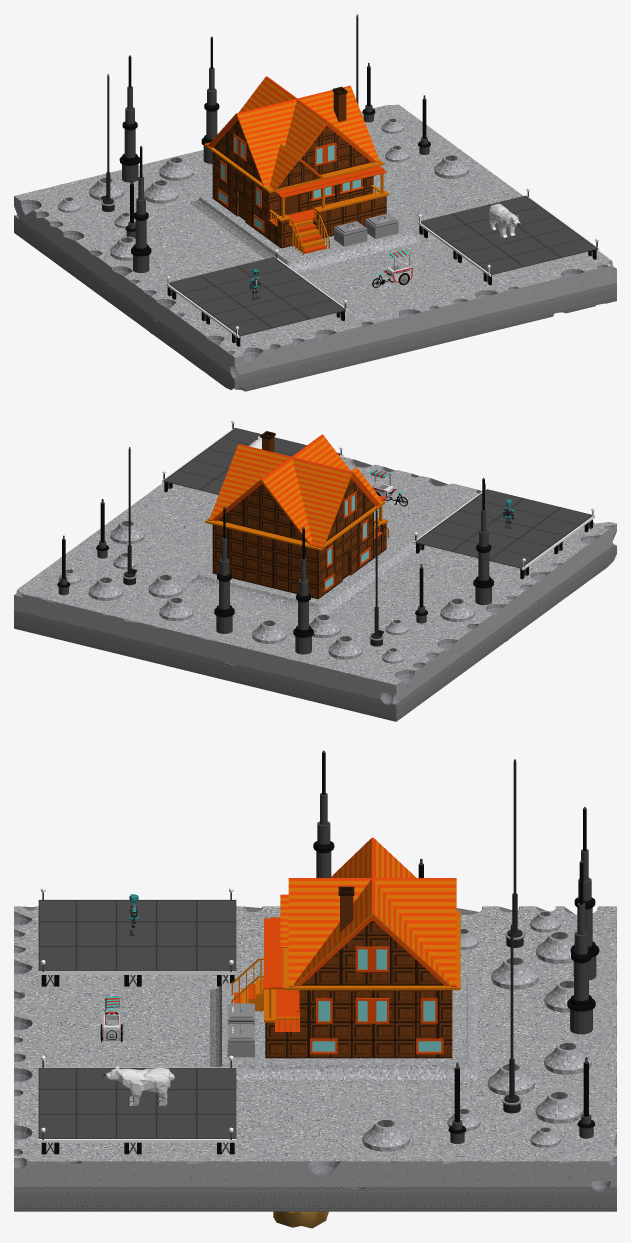
The picture shows the model from 3 angles, top to bottom: view 1: azimuth 30°, elevation 25°; view 2: azimuth 150°, elevation 25°; view 3: azimuth 270°, elevation 25°; orthographic projection. The views are drawn at different scales.
Visible parts, largest first — view 1: Cube.027, Cube, Cube.025, Cube.026, Cube.028, Cylinder.020, Cylinder.021, Cylinder.017, ANIMAL_OSO_POLAR, VEHICLES_SNOWBAL_BIKE, Cube.029, Cube.030 (+5 smaller); view 2: Cube.027, Cube, Cube.025, Cube.028, Cube.026, Cylinder.017, Cylinder.021, Cylinder.020, Cylinder.028, Cylinder.030, Cylinder.029, Cylinder.031 (+7 smaller); view 3: Cube.027, Cube, Cube.025, Cube.026, Cube.028, Cylinder.017, ANIMAL_OSO_POLAR, Cylinder.020, Cylinder.021, Cylinder.031, Cylinder.033, Cylinder.029 (+11 smaller).
Part boxes in pixels (x1,y1,x2,y2): Cube.027: [14, 104, 616, 391]; Cube: [204, 76, 389, 254]; Cube.025: [166, 249, 347, 346]; Cube.026: [417, 188, 599, 285]; Cube.028: [190, 193, 421, 271]; Cylinder.020: [119, 55, 139, 182]; Cylinder.021: [131, 146, 151, 273]; Cylinder.017: [201, 36, 219, 163]; ANIMAL_OSO_POLAR: [489, 203, 520, 238]; VEHICLES_SNOWBAL_BIKE: [372, 250, 412, 287]; Cube.029: [334, 221, 367, 246]; Cube.030: [365, 213, 398, 238]; Cube.027: [14, 456, 616, 721]; Cube: [205, 431, 388, 599]; Cube.025: [413, 481, 595, 579]; Cube.028: [188, 534, 415, 615]; Cube.026: [162, 420, 343, 494]; Cylinder.017: [214, 506, 234, 633]; Cylinder.021: [473, 477, 493, 605]; Cylinder.020: [293, 527, 313, 654]; Cylinder.028: [328, 635, 362, 659]; Cylinder.030: [148, 574, 182, 598]; Cylinder.029: [159, 597, 193, 621]; Cylinder.031: [88, 576, 123, 600]; Cube.027: [14, 906, 616, 1211]; Cube: [231, 837, 460, 1058]; Cube.025: [38, 887, 236, 986]; Cube.026: [38, 1055, 236, 1154]; Cube.028: [210, 983, 477, 1079]; Cylinder.017: [567, 860, 595, 1034]; ANIMAL_OSO_POLAR: [103, 1066, 174, 1105]; Cylinder.020: [570, 807, 599, 980]; Cylinder.021: [313, 750, 334, 877]; Cylinder.031: [535, 1091, 583, 1123]; Cylinder.033: [362, 1119, 409, 1151]; Cylinder.029: [544, 1042, 591, 1074].
Size of the model in its own units: 4000 by 1912 by 4000.
Materials: 34 (5 with a texture image).
